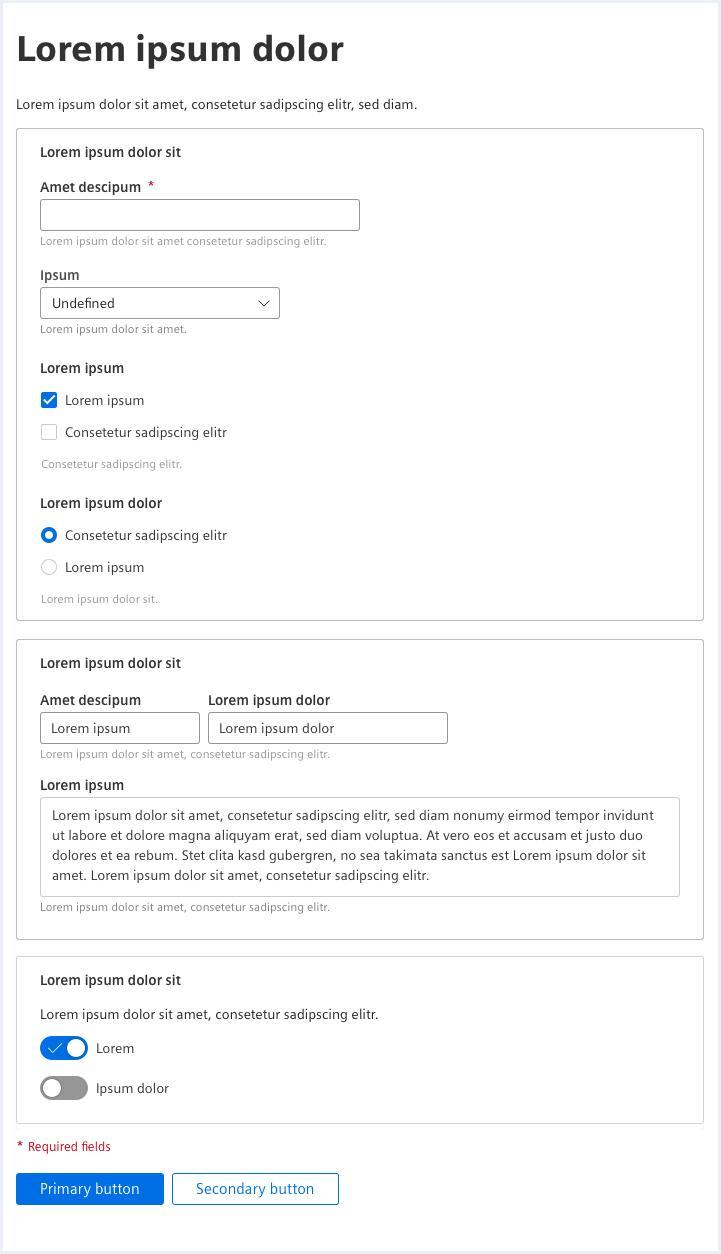button: (173, 1173, 340, 1206), (17, 1173, 164, 1206)
checkbox: (42, 393, 59, 410), (42, 427, 58, 441)
dropdown: (42, 289, 282, 321)
input: (42, 200, 361, 232), (210, 714, 449, 745), (41, 714, 199, 745)
label: (12, 34, 369, 67), (30, 144, 195, 165), (41, 972, 186, 990), (67, 530, 232, 545), (41, 656, 186, 672), (67, 425, 232, 439), (209, 692, 333, 709), (35, 180, 157, 196), (42, 495, 164, 511), (38, 362, 131, 379), (41, 694, 146, 709), (97, 1082, 174, 1099), (41, 779, 129, 792), (65, 396, 147, 409), (65, 563, 147, 576), (34, 265, 86, 284), (97, 1042, 139, 1057)
radio: (41, 559, 60, 578), (42, 527, 60, 547)
switch: (41, 1038, 90, 1061), (41, 1078, 89, 1101)
